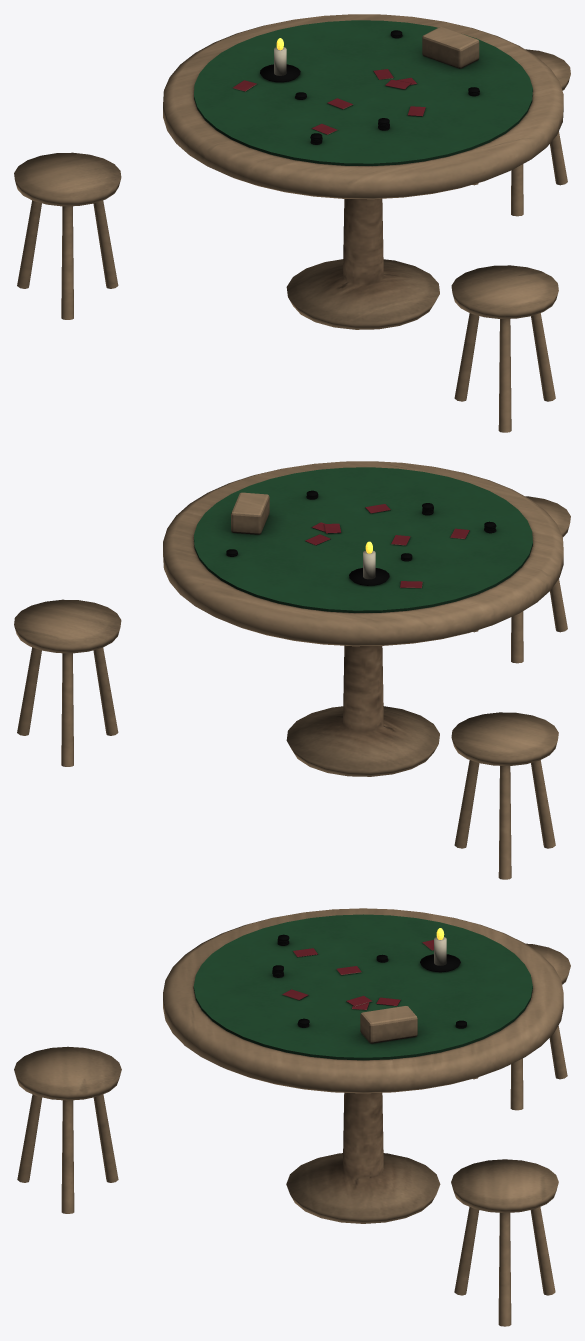
Rendered from cenario_mesa_cartas.glb.
3 views of the same model, one above another, from view 1: azimuth 30°, elevation 25°; view 2: azimuth 150°, elevation 25°; view 3: azimuth 270°, elevation 25° (orthographic).
Parts seen in each view (by area): view 1: cenario_mesa_cartas_tronco; view 2: cenario_mesa_cartas_tronco; view 3: cenario_mesa_cartas_tronco.
Part boxes in pixels (left/top/right/bottom): cenario_mesa_cartas_tronco: left=14, top=14, right=570, bottom=432; cenario_mesa_cartas_tronco: left=14, top=461, right=570, bottom=879; cenario_mesa_cartas_tronco: left=14, top=908, right=570, bottom=1326.
Bounding box in the file's own units: 2.43 × 1.05 × 2.17.
2 materials, 1 textured.
